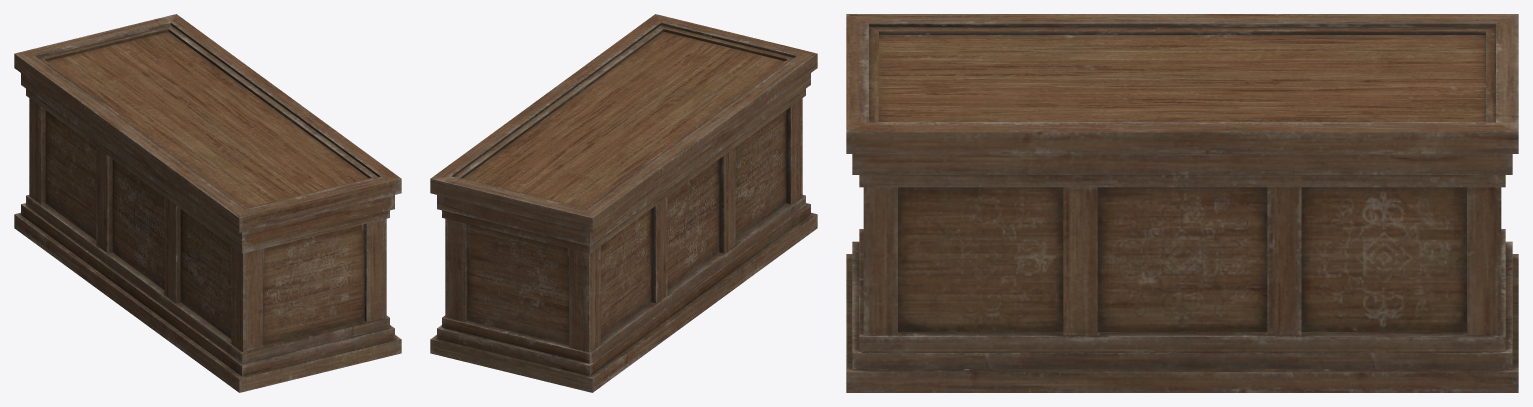
File: SM_WoodTrunk_01.fbx
The picture shows the model from 3 angles, left to right: view 1: azimuth 30°, elevation 25°; view 2: azimuth 150°, elevation 25°; view 3: azimuth 270°, elevation 25°; orthographic projection. The views are drawn at different scales.
Parts seen in each view (by area): view 1: SM_WoodTrunk_01; view 2: SM_WoodTrunk_01; view 3: SM_WoodTrunk_01.
Part boxes in pixels (x1,y1,x2,y2): SM_WoodTrunk_01: (14,14,401,392); SM_WoodTrunk_01: (430,14,817,392); SM_WoodTrunk_01: (846,14,1518,392).
Size of the model in its own units: 79.8 by 82.04 by 192.
